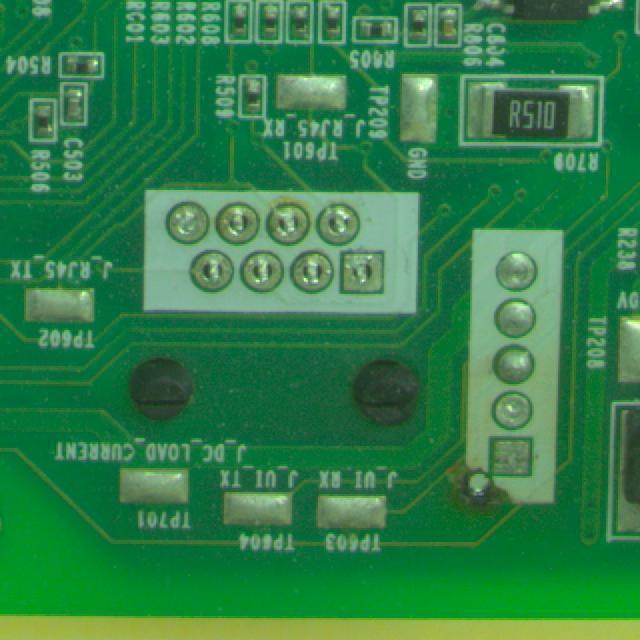Insufficient solder: (334, 248, 393, 303), (161, 195, 213, 249), (189, 247, 239, 299), (290, 248, 337, 300), (240, 247, 282, 302), (263, 204, 314, 246), (213, 201, 265, 241), (320, 205, 368, 244)
